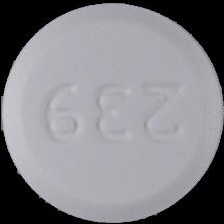31722-239: (0, 0, 224, 224)
